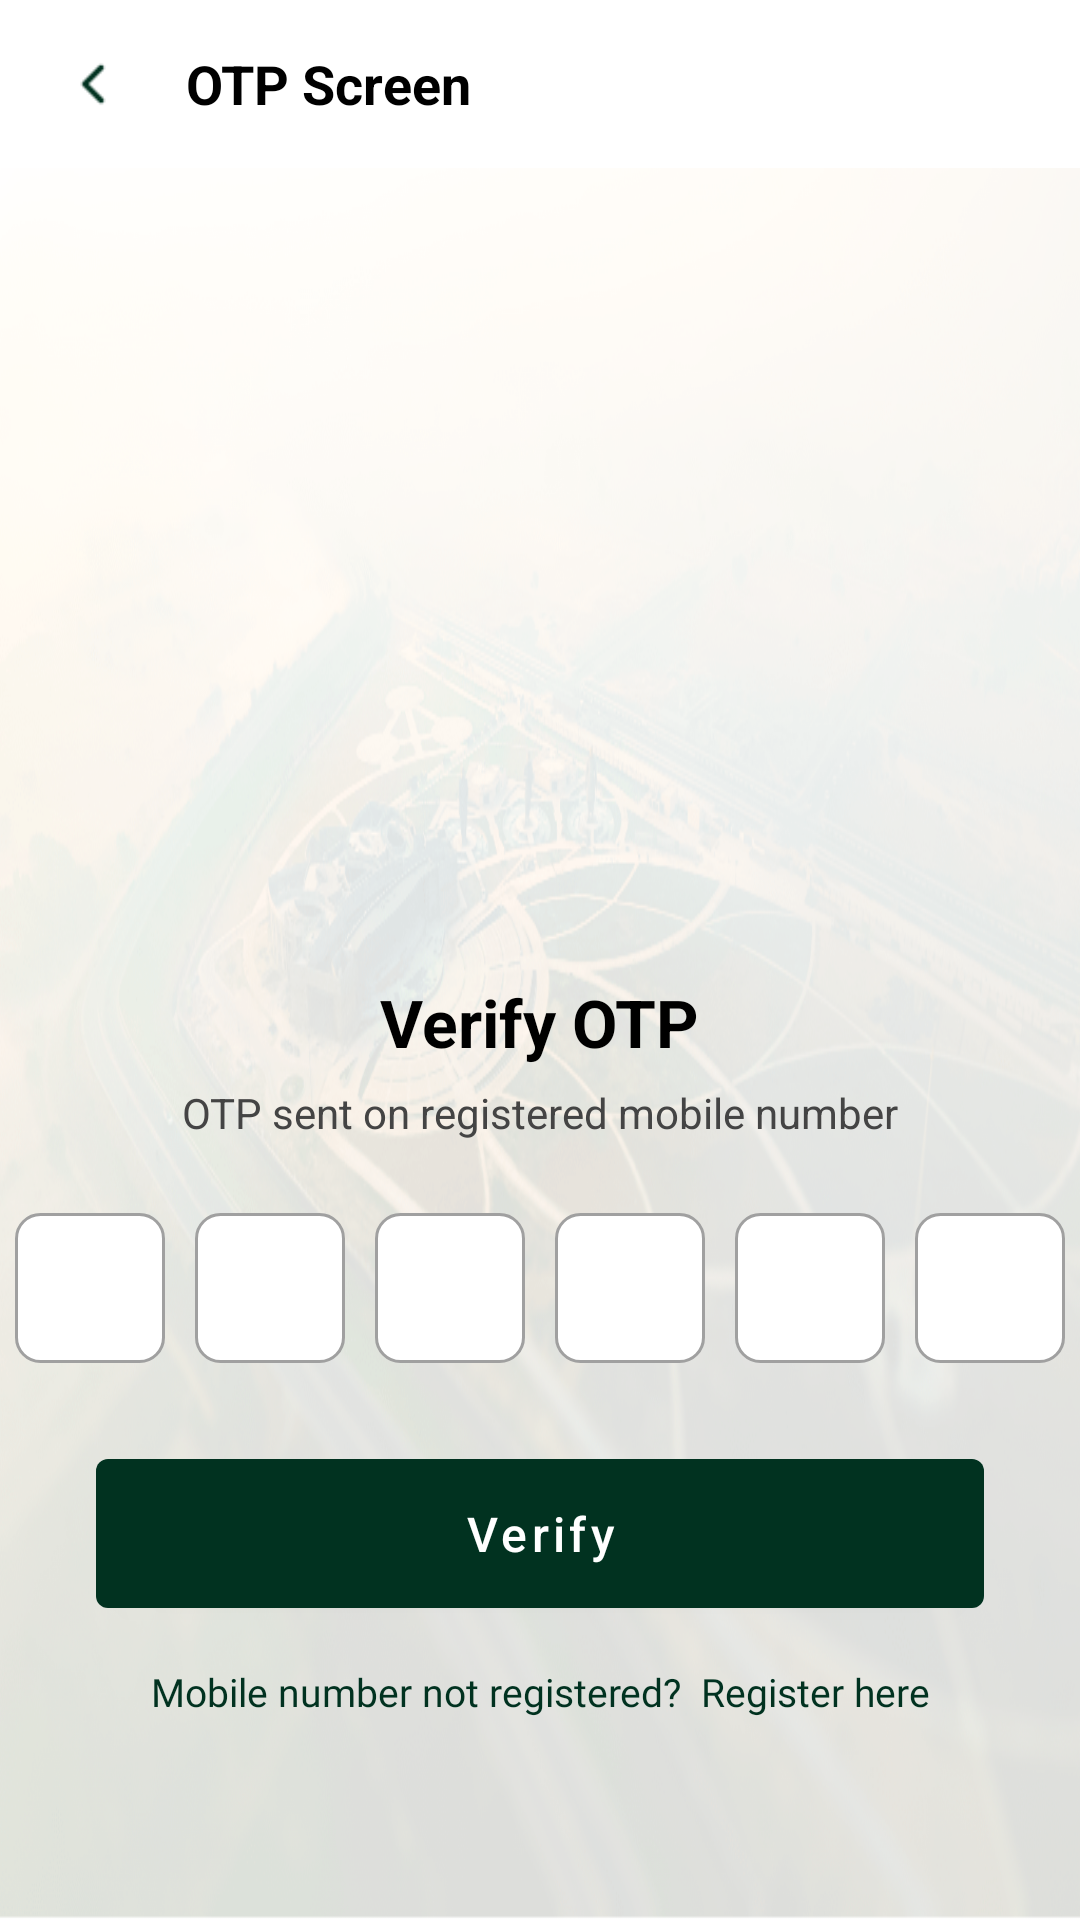

Icons on this 1080×1920 Android screen, each with the point to tap as point (x, y):
left: point (93, 84)
